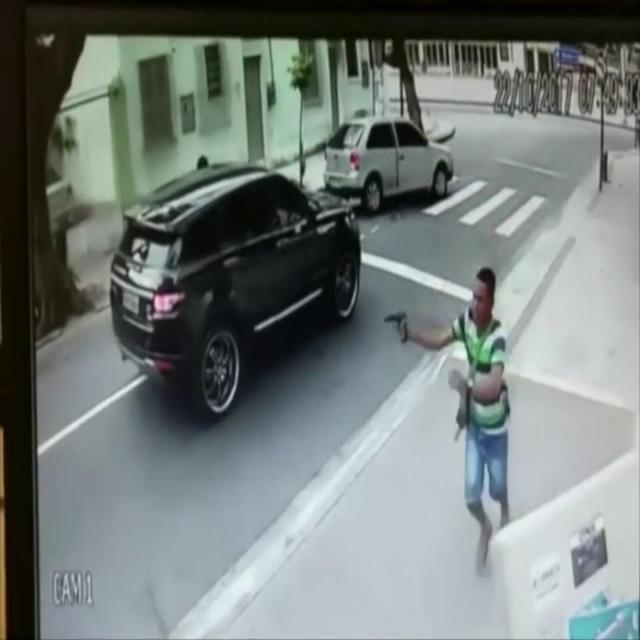weapon: (376, 295, 414, 355)
